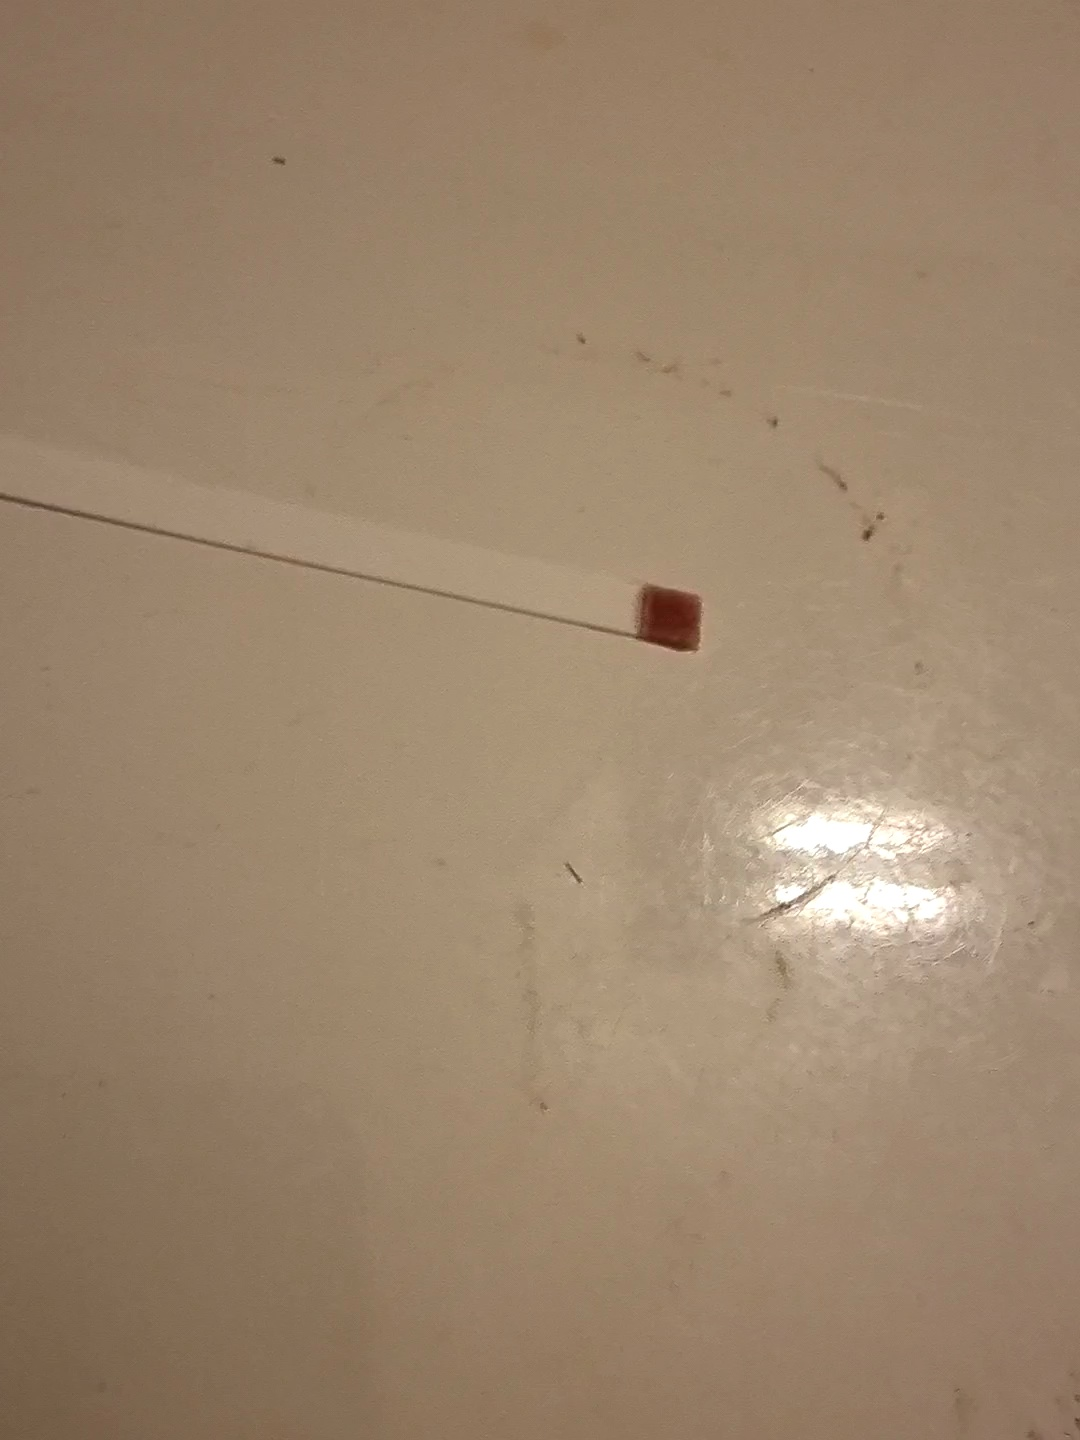keto-tip: (628, 575, 706, 661)
